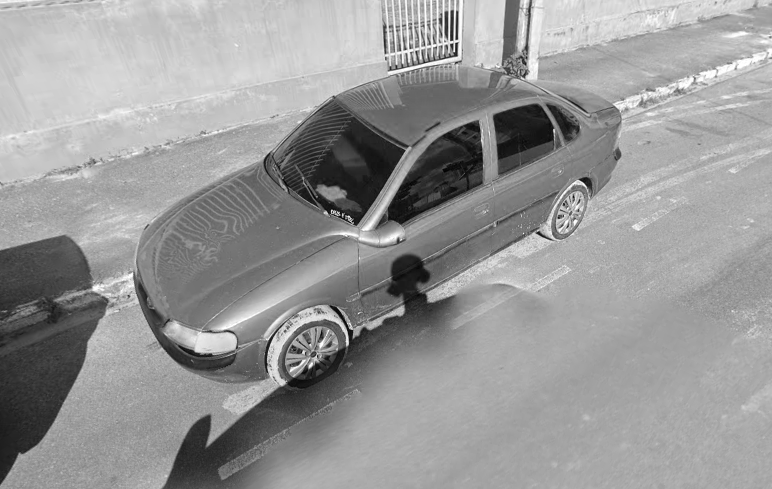car: (133, 62, 625, 393)
